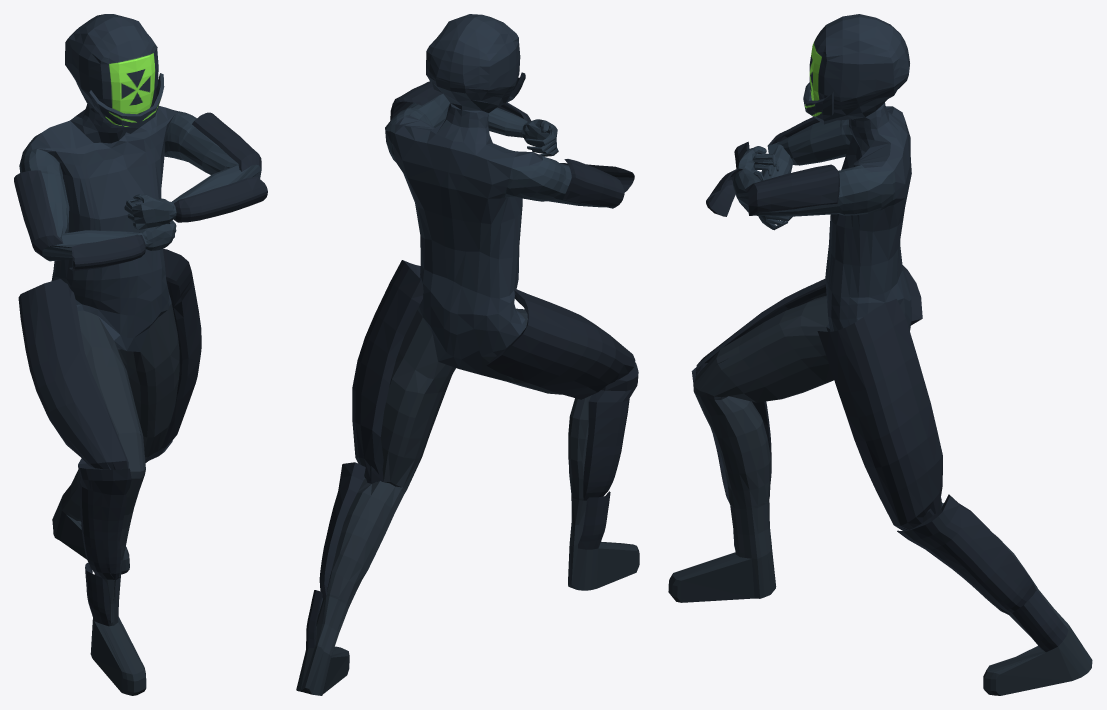
The model's file is Bastion_WL_000007.obj.
3 views of the same model, side by side, from view 1: azimuth 30°, elevation 25°; view 2: azimuth 150°, elevation 25°; view 3: azimuth 270°, elevation 25° (orthographic). The views are drawn at different scales.
Parts seen in each view (by area): view 1: Cube.002; view 2: Cube.002; view 3: Cube.002.
Boxes of the visible parts, left/top/right/bottom form: Cube.002: left=14, top=14, right=267, bottom=695; Cube.002: left=296, top=14, right=639, bottom=695; Cube.002: left=668, top=14, right=1092, bottom=695.
Bounding box in the file's own units: 1.3 × 3.57 × 2.15.
